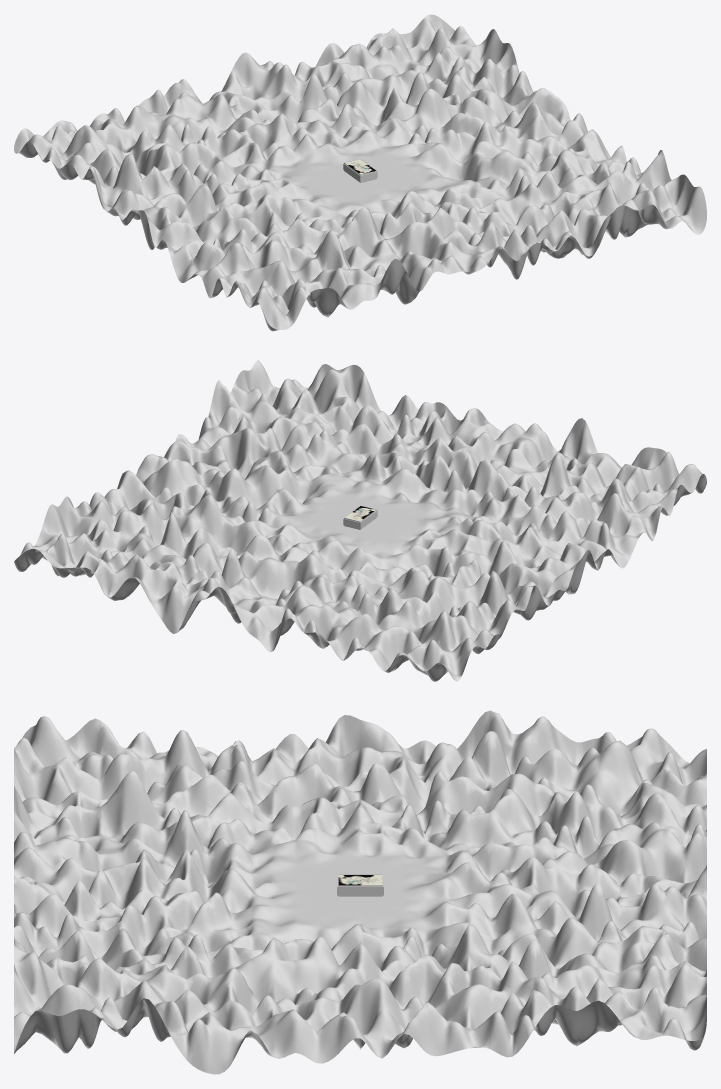
Rendered from environment_wip02_max.FBX.
The picture shows the model from 3 angles, top to bottom: view 1: azimuth 30°, elevation 25°; view 2: azimuth 150°, elevation 25°; view 3: azimuth 270°, elevation 25°; orthographic projection. The views are drawn at different scales.
Parts seen in each view (by area): view 1: Plane001; view 2: Plane001; view 3: Plane001, Box001.
Part boxes in pixels (x1,y1,x2,y2): Plane001: (14,14,706,331); Plane001: (14,360,706,681); Plane001: (14,710,706,1074); Box001: (337,874,383,896).
Bounding box in the file's own units: 12.98 × 1.85 × 12.98.
